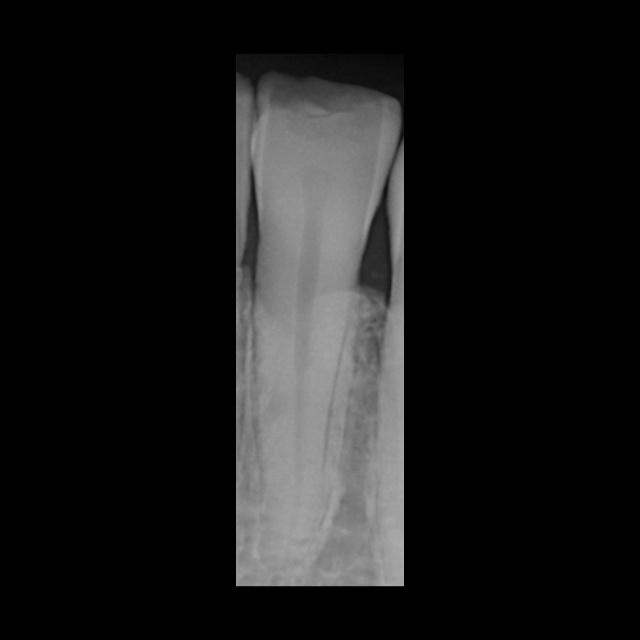tooth: (253, 75, 401, 544)
